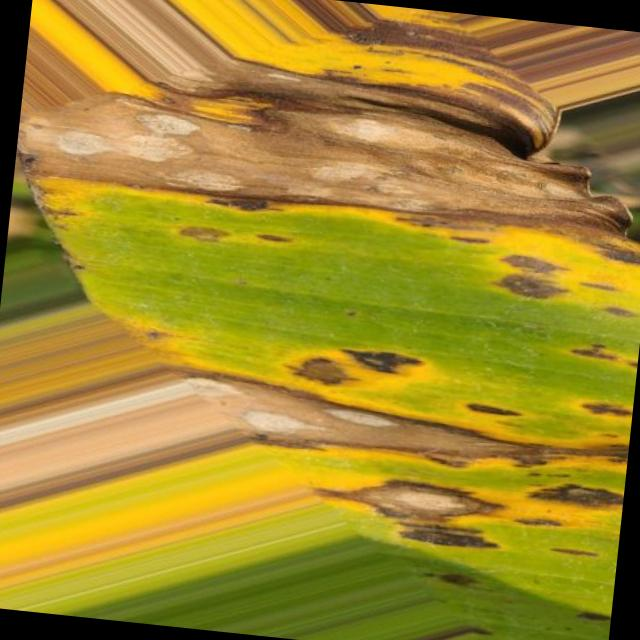Banana_Black_Sigatoka: (42, 25, 640, 310), (220, 306, 639, 596)
